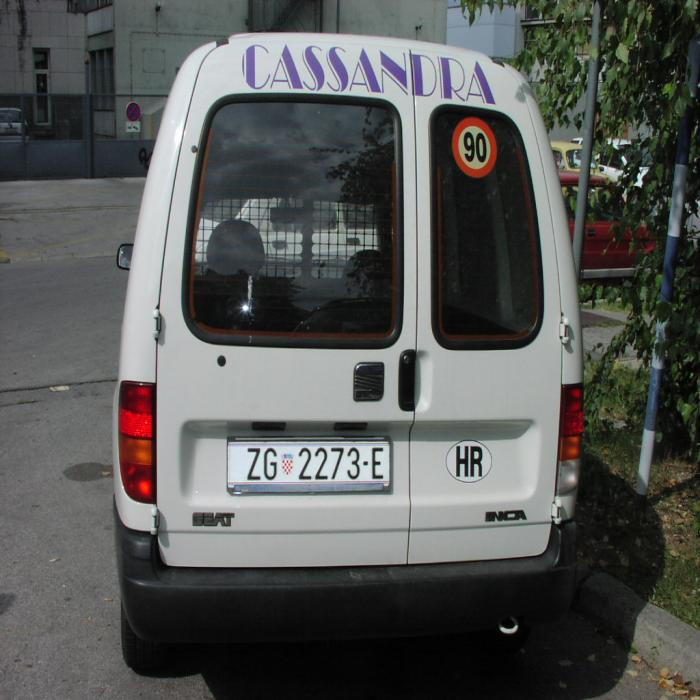number_plate: (226, 442, 390, 479)
